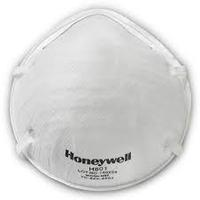flu mask: (8, 5, 196, 191)
